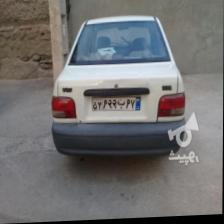plate: (93, 98, 142, 112)
